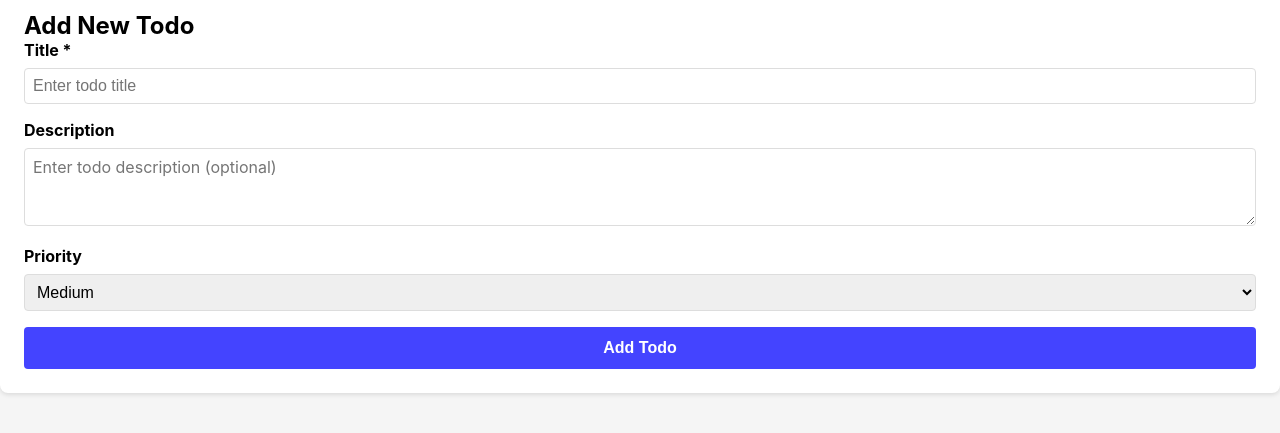
Test: TodoForm Component › shows error when title is too short
Type "ab" into the field with test id "title-input" at (640, 86), box [24,68,1256,104]
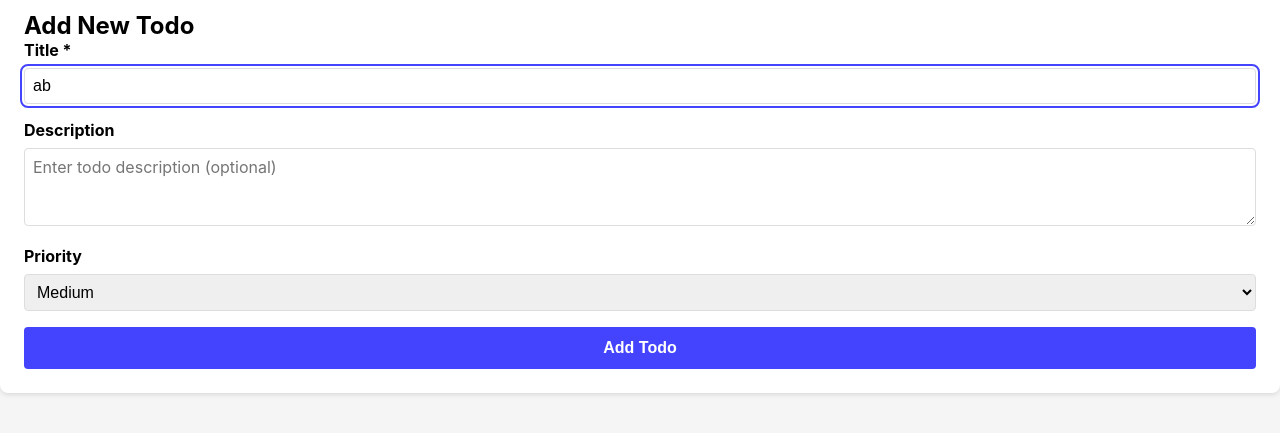
Click the button with test id "submit-button" at (640, 348), box [24,327,1256,369]
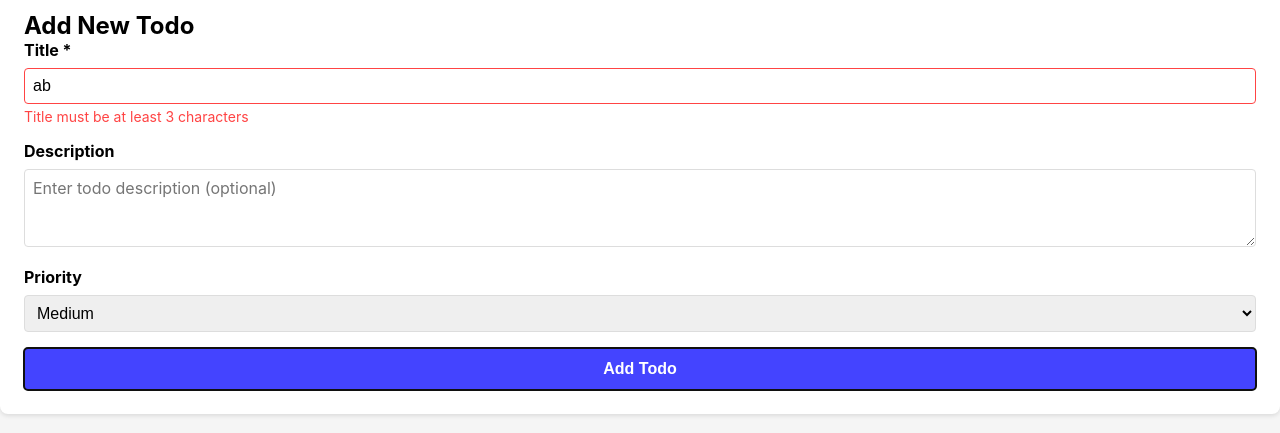
Result: the text with test id "title-error" shows "at least 3 characters" at [24,108,249,125]
